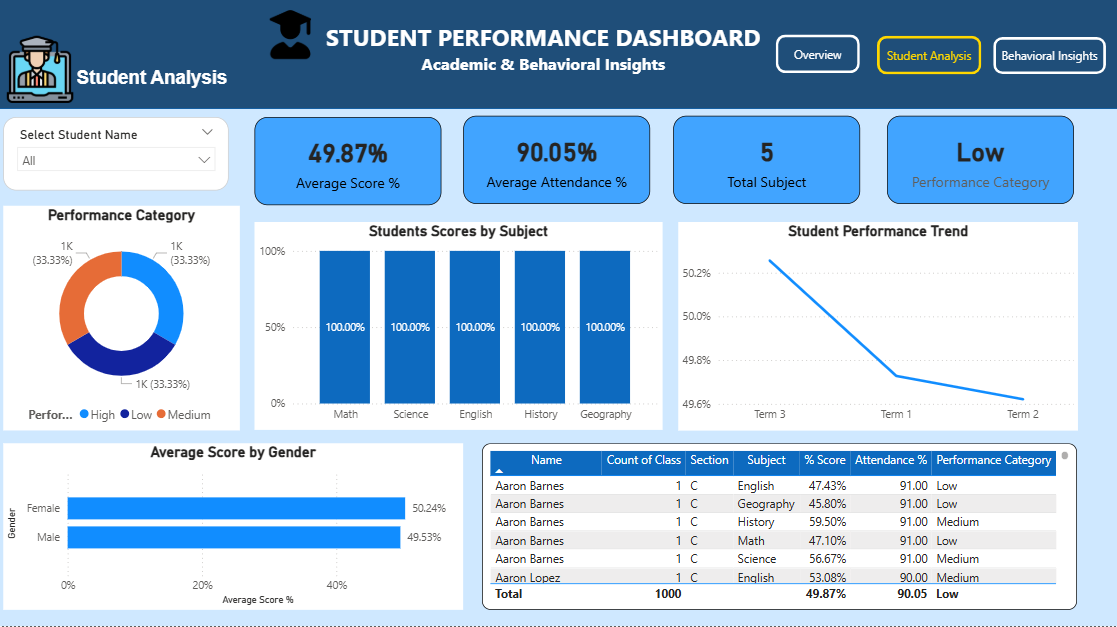

The dashboard page shown, as its layout file describes it:
{"tool":"powerbi","page":{"name":"Student Analysis","canvas":[1280,720],"ordinal":1},"visuals":[{"type":"shape","box":[0,0,1365,128.3],"z":0},{"type":"slicer","fields":{"Values":["Students.Student Name"]},"box":[7.8,137.5,257.8,84.4],"z":1000},{"type":"card","title":"Total Students","fields":{"Values":["Measures Table.Average Score %"]},"box":[294,137.1,213.3,100.5],"z":2000},{"type":"card","title":"Total Students","fields":{"Values":["Measures Table.Average Attendance %"]},"box":[533.2,135.6,213.3,100.5],"z":3000},{"type":"card","title":"Total Students","fields":{"Values":["Measures Table.Total Subject"]},"box":[772.4,135.6,213.3,100.5],"z":4000},{"type":"card","title":"Total Students","fields":{"Values":["Measures Table.Performance Category"]},"box":[1017.7,135.6,213.3,100.5],"z":5000},{"type":"hundredPercentStackedColumnChart","title":"Students Scores by Subject","fields":{"Category":["Scores.Subject"],"Y":["Measures Table.Average Score %"]},"box":[294,257.5,466.2,237.7],"z":6000},{"type":"lineChart","title":"Student Performance Trend","fields":{"Category":["Scores.Term"],"Y":["Measures Table.Average Score %"]},"box":[778.8,257.1,457,238],"z":7000},{"type":"tableEx","fields":{"Values":["Students.Name","CountNonNull(Students.Class)","Students.Section","Scores.Subject","Measures Table.% Score","Measures Table.Attendance %","Measures Table.Performance Category"]},"box":[554.1,510.3,679.8,190.4],"z":8000},{"type":"donutChart","title":"Performance Category","fields":{"Category":["Scores.Performance Category"],"Y":["Measures Table.Total Students"]},"box":[7.6,238,270.4,257.1],"z":9000},{"type":"clusteredBarChart","title":"Average Score by Gender","fields":{"Category":["Students.Gender"],"Y":["Measures Table.Average Score %"]},"box":[7.6,510.3,525.6,190.4],"z":10000},{"type":"textbox","box":[359.6,23.1,528.8,80.8],"z":11000},{"type":"actionButton","box":[890.4,42.3,96.2,44.2],"z":12000},{"type":"actionButton","box":[1005.8,44.2,119.2,44.2],"z":13000},{"type":"actionButton","box":[1138.5,46.2,128.8,42.3],"z":14000},{"type":"image","box":[0,45,98.3,76.7],"z":14001},{"type":"textbox","box":[73.3,75,208.3,46.7],"z":14002},{"type":"image","box":[293.3,8.3,85,68.3],"z":14003}]}

Visuals, with their boxes in screenshot pixels (x1, y1, x2, y2), scaled from the page's 1280x720 canvas onto the 1117x627 screenshot:
shape: pyautogui.locateOnScreen(0, 0, 1116, 112)
slicer - Students.Student Name: pyautogui.locateOnScreen(7, 120, 232, 193)
"Total Students" card: pyautogui.locateOnScreen(257, 119, 443, 207)
"Total Students" card: pyautogui.locateOnScreen(465, 118, 651, 206)
"Total Students" card: pyautogui.locateOnScreen(674, 118, 860, 206)
"Total Students" card: pyautogui.locateOnScreen(888, 118, 1074, 206)
"Students Scores by Subject" hundredPercentStackedColumnChart: pyautogui.locateOnScreen(257, 224, 663, 431)
"Student Performance Trend" lineChart: pyautogui.locateOnScreen(680, 224, 1078, 431)
tableEx - Students.Name x CountNonNull(Students.Class): pyautogui.locateOnScreen(484, 444, 1077, 610)
"Performance Category" donutChart: pyautogui.locateOnScreen(7, 207, 243, 431)
"Average Score by Gender" clusteredBarChart: pyautogui.locateOnScreen(7, 444, 465, 610)
textbox: pyautogui.locateOnScreen(314, 20, 775, 90)
actionButton: pyautogui.locateOnScreen(777, 37, 861, 75)
actionButton: pyautogui.locateOnScreen(878, 38, 982, 77)
actionButton: pyautogui.locateOnScreen(994, 40, 1106, 77)
image: pyautogui.locateOnScreen(0, 39, 86, 106)
textbox: pyautogui.locateOnScreen(64, 65, 246, 106)
image: pyautogui.locateOnScreen(256, 7, 330, 67)
